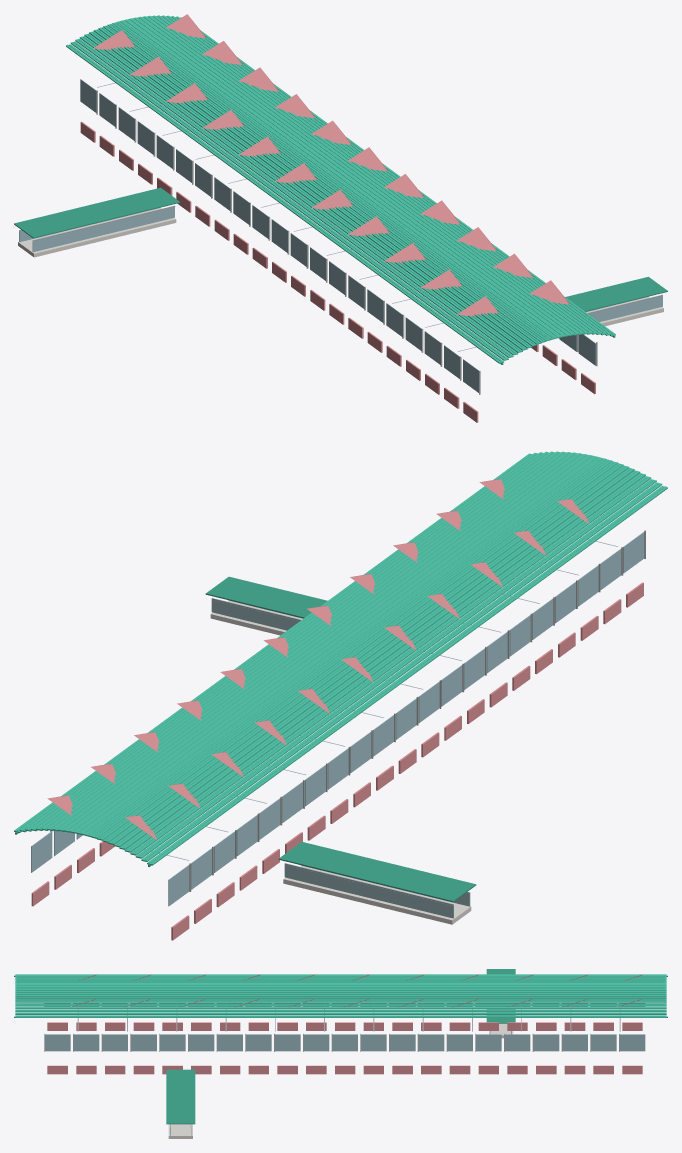
The model's file is station-15-photo-reference.glb.
The picture shows the model from 3 angles, top to bottom: view 1: azimuth 30°, elevation 25°; view 2: azimuth 150°, elevation 25°; view 3: azimuth 270°, elevation 25°; orthographic projection. The views are drawn at different scales.
Parts seen in each view (by area): view 1: Station 15 photo-informed architecture and surroundings; view 2: Station 15 photo-informed architecture and surroundings; view 3: Station 15 photo-informed architecture and surroundings.
Part boxes in pixels (left/top/right/bottom): Station 15 photo-informed architecture and surroundings: left=14, top=14, right=667, bottom=422; Station 15 photo-informed architecture and surroundings: left=14, top=451, right=667, bottom=940; Station 15 photo-informed architecture and surroundings: left=14, top=969, right=667, bottom=1138.
Size of the model in its own units: 89 by 21.54 by 159.
